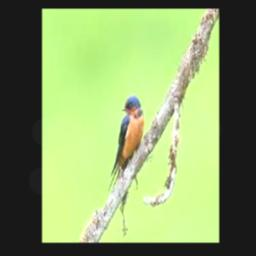Swallow: (108, 95, 144, 194)
